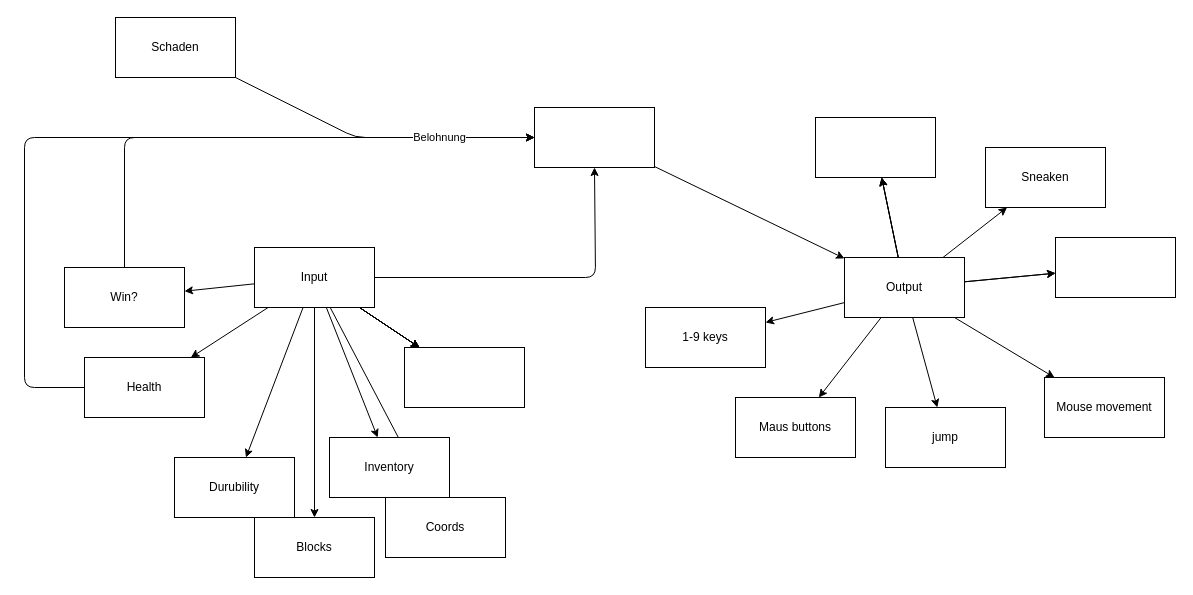
This 1193x595 diagram has some shape labels left out. The box of each missing label's shape, as (x1, y1, x2, y2) in pixels:
Hunger: (404, 346, 524, 408)
KI: (534, 106, 654, 168)
Sprint: (1054, 236, 1176, 298)
W A S D: (814, 116, 936, 178)
